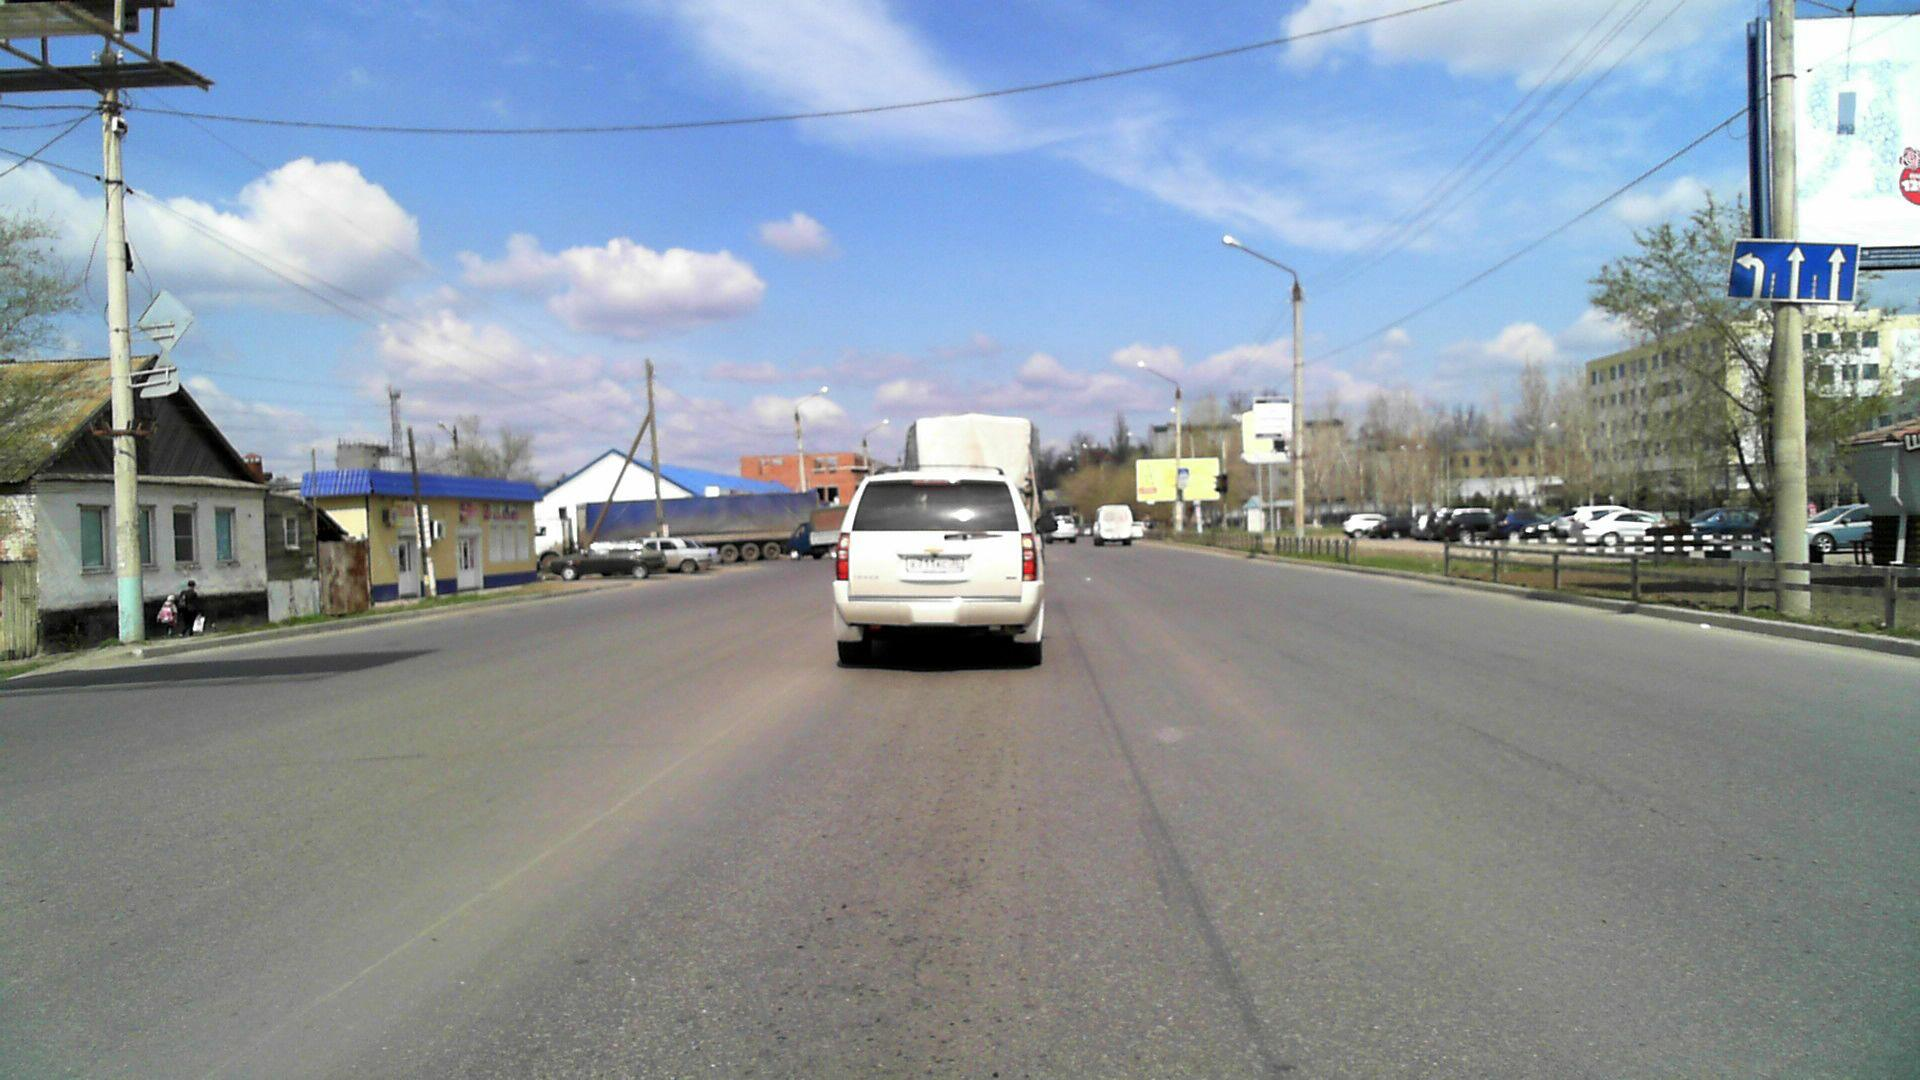5_15_1: (1727, 233, 1862, 307)
